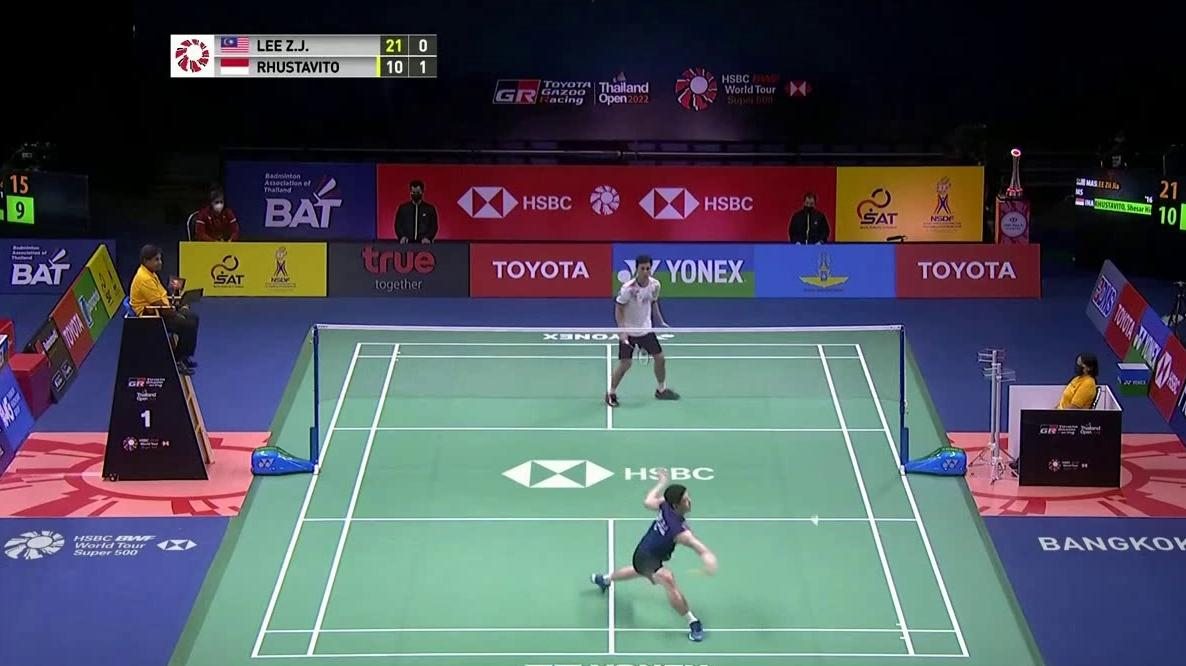racket: (619, 335, 649, 366)
shuttle: (809, 514, 820, 528)
